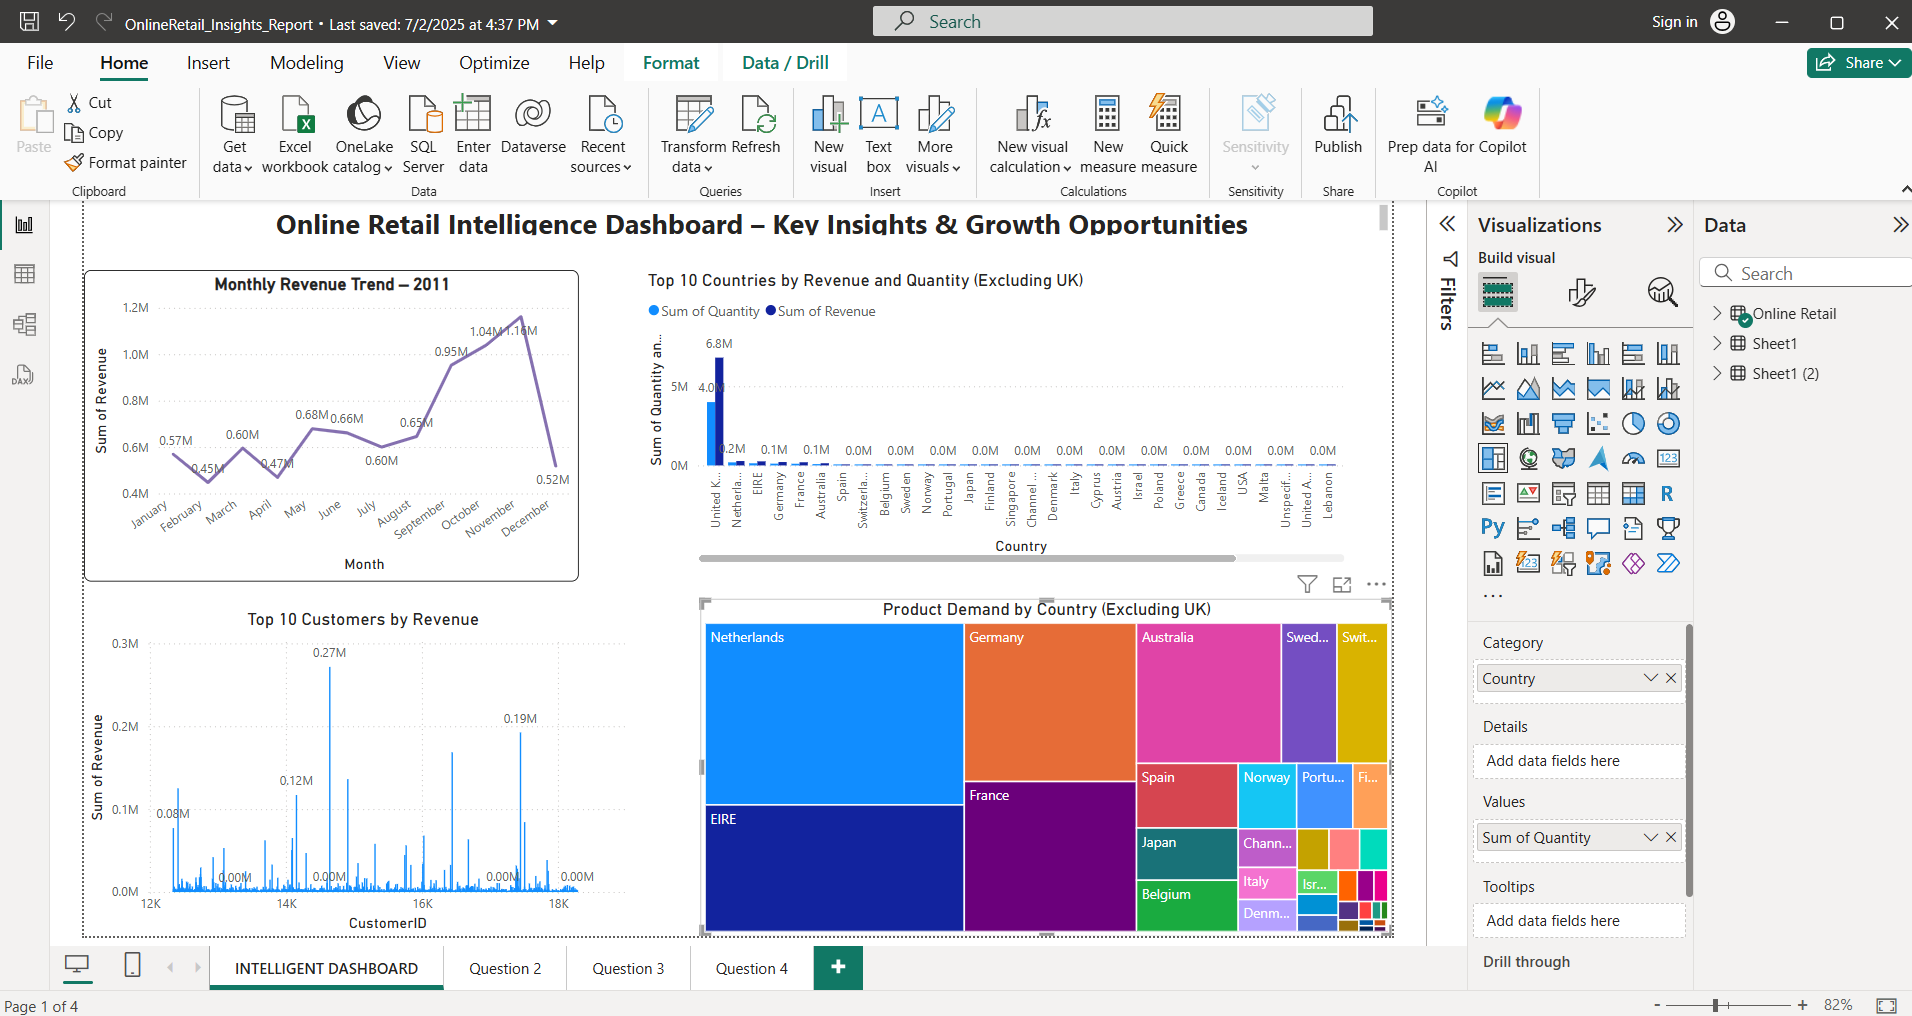

The dashboard page shown, as its layout file describes it:
{"tool":"powerbi","page":{"name":"INTELLIGENT DASHBOARD","canvas":[1280,720],"ordinal":0},"visuals":[{"type":"lineChart","title":"Monthly Revenue Trend – 2011","fields":{"Category":["Online Retail.InvoiceDate.Variation.Date Hierarchy.Month"],"Y":["Sum(Online Retail.Revenue)"]},"box":[0,68.6,484.4,304.6],"z":0},{"type":"clusteredColumnChart","title":"Top 10 Countries by Revenue and Quantity (Excluding UK)","fields":{"Category":["Online Retail.Country"],"Y":["Sum(Online Retail.Quantity)","Sum(Online Retail.Revenue)"]},"box":[546.1,68.6,691.6,290.9],"z":1000},{"type":"clusteredColumnChart","title":"Top 10 Customers by Revenue","fields":{"Category":["Online Retail.CustomerID"],"Y":["Sum(Online Retail.Revenue)"]},"box":[0,399.3,546.1,321.1],"z":2000},{"type":"treemap","title":"Product Demand by Country (Excluding UK)","fields":{"Group":["Online Retail.Country"],"Values":["Sum(Online Retail.Quantity)"]},"box":[602.4,389.7,677.9,330.7],"z":3000},{"type":"textbox","box":[53.5,0,1226.8,39.8],"z":4000}]}

Visuals, with their boxes on the page's 1280x720 design canvas (x1, y1, x2, y2). These are canvas units, not pixel positions in the 1912x1016 screenshot, which may show the page scaled, cropped or inside an application window:
"Monthly Revenue Trend – 2011" lineChart: region(0, 69, 484, 373)
"Top 10 Countries by Revenue and Quantity (Excluding UK)" clusteredColumnChart: region(546, 69, 1238, 360)
"Top 10 Customers by Revenue" clusteredColumnChart: region(0, 399, 546, 720)
"Product Demand by Country (Excluding UK)" treemap: region(602, 390, 1280, 720)
textbox: region(54, 0, 1280, 40)
